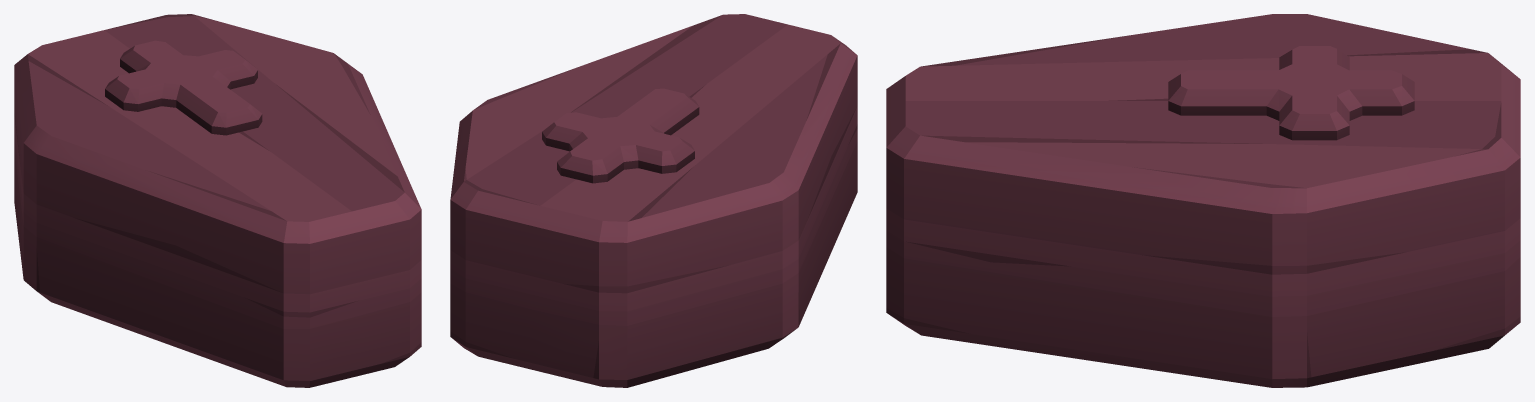
File: coffin_2.glb
The picture shows the model from 3 angles, left to right: view 1: azimuth 30°, elevation 25°; view 2: azimuth 150°, elevation 25°; view 3: azimuth 270°, elevation 25°; orthographic projection. The views are drawn at different scales.
Parts seen in each view (by area): view 1: coffin_2; view 2: coffin_2; view 3: coffin_2.
Part boxes in pixels (bbox=[...]): coffin_2: bbox=[14, 14, 421, 387]; coffin_2: bbox=[450, 14, 857, 387]; coffin_2: bbox=[886, 14, 1520, 387].
Size of the model in its own units: 2.78 by 1.49 by 3.89.
1 material, 1 textured.
